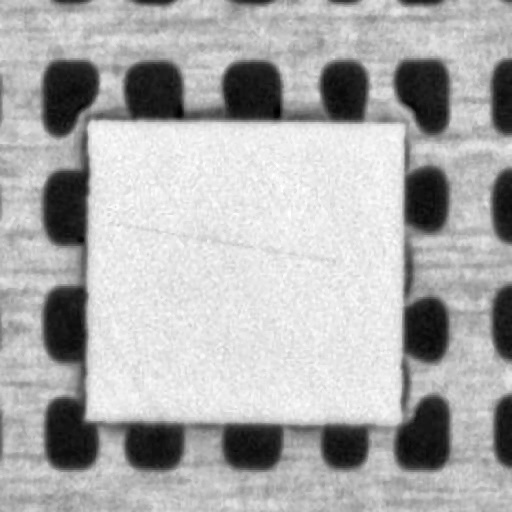DIE_CRACK: (142, 166, 441, 195)
